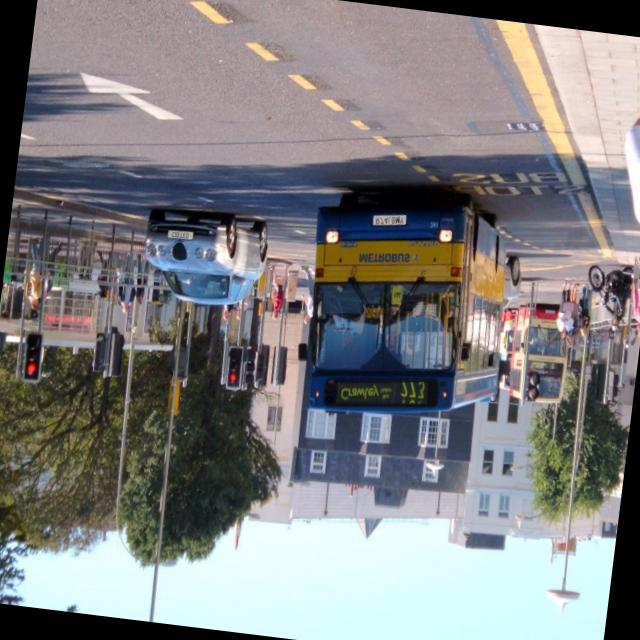bus: (286, 168, 516, 434), (506, 303, 574, 409), (490, 306, 515, 388)
